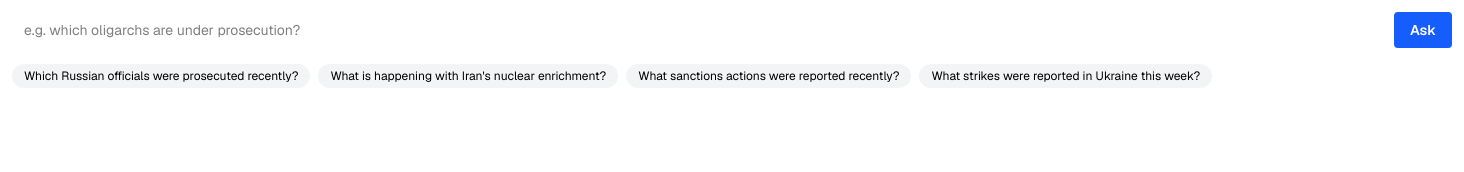
Test: AskForm: progressive transport (ASK_PROGRESSIVE client path) › release hardening: a durable:false terminal renders the live-wire answer WITHOUT a /result fetch (no replay-durability claim)
Type "did russia strike kyiv today" into the field with placeholder "e.g. which oligarchs are under prosecution?" at x=699, y=30, box [12,12,1386,48]
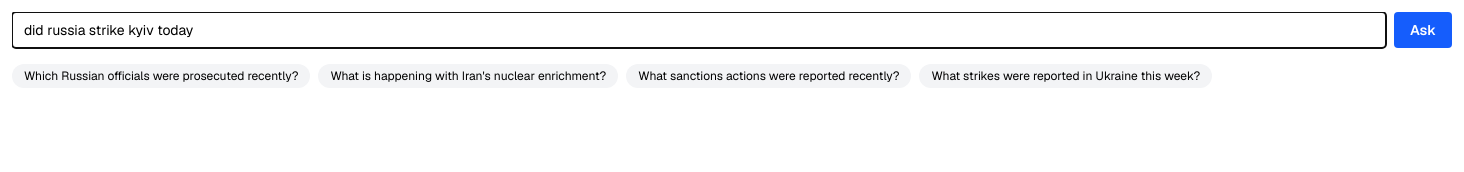
Click the button "Ask" at x=1423, y=30, box [1394,12,1452,48]
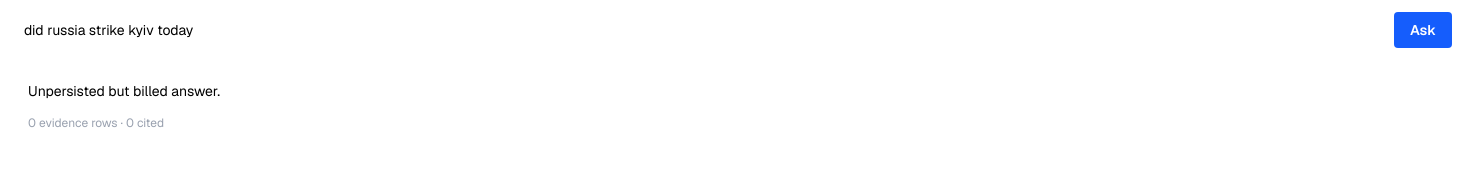
Expected: the text "Unpersisted but billed answer." is shown, [28,82,220,100]
